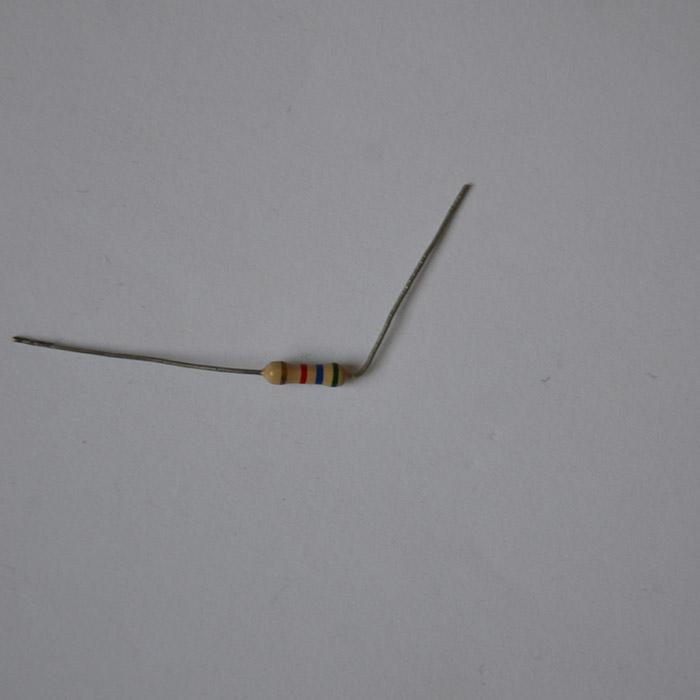resistor: (263, 360, 353, 387)
